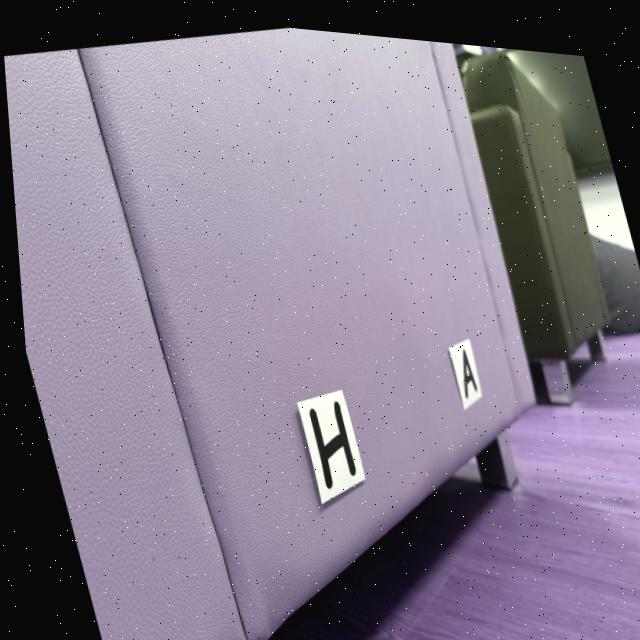A: (457, 340, 472, 389)
H: (304, 395, 349, 483)
